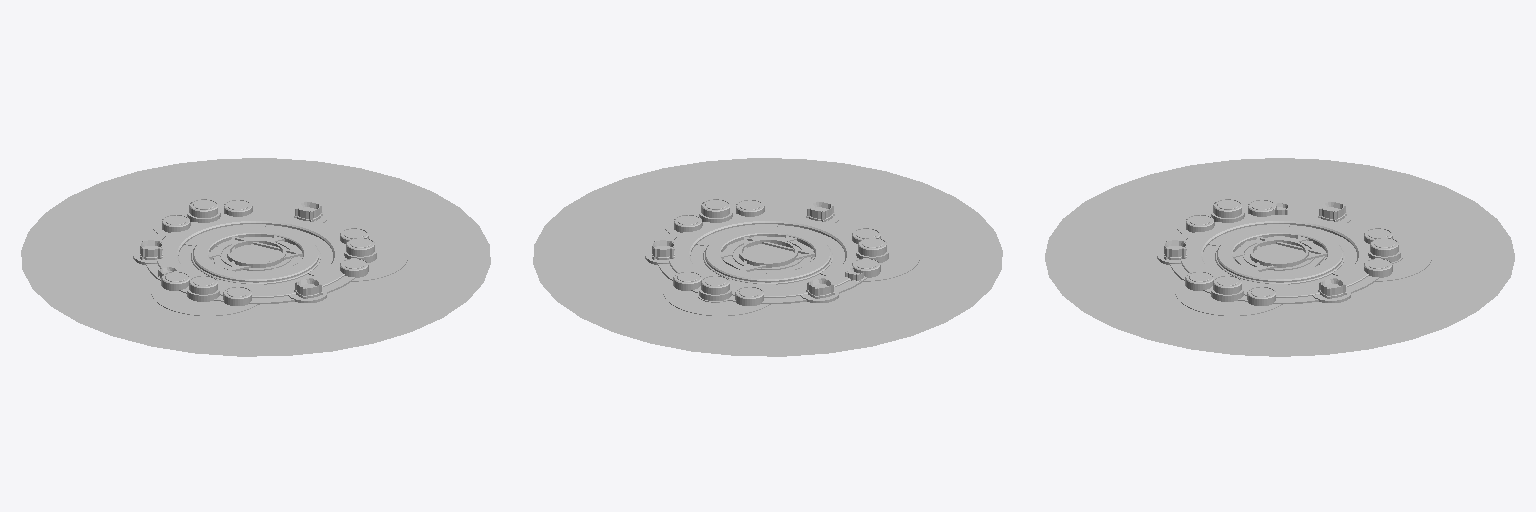
The model's file is arena 2.obj.
3 views of the same model, side by side, from view 1: azimuth 30°, elevation 25°; view 2: azimuth 150°, elevation 25°; view 3: azimuth 270°, elevation 25° (orthographic).
Parts seen in each view (by area): view 1: Circle, Cylinder.006_Cylinder.012, Cylinder.012_Cylinder.023, Cylinder.015_Cylinder.028, Cylinder.007_Cylinder.013, Cube_Cube.005, Cylinder_Cylinder.014, Cylinder.004_Cylinder.009, Cylinder.005_Cylinder.015; view 2: Circle, Cylinder.006_Cylinder.012, Cylinder.012_Cylinder.023, Cylinder.015_Cylinder.028, Cylinder.007_Cylinder.013, Cube_Cube.005, Cylinder_Cylinder.014, Cylinder.004_Cylinder.009, Cylinder.005_Cylinder.015; view 3: Circle, Cylinder.006_Cylinder.012, Cylinder.012_Cylinder.023, Cylinder.015_Cylinder.028, Cylinder.007_Cylinder.013, Cube_Cube.005, Cylinder_Cylinder.014, Cylinder.004_Cylinder.009, Cylinder.005_Cylinder.015.
Part boxes in pixels (x1,y1,x2,y2): Circle: (21, 158, 490, 356); Cylinder.006_Cylinder.012: (146, 209, 354, 304); Cylinder.012_Cylinder.023: (161, 199, 376, 305); Cylinder.015_Cylinder.028: (151, 198, 407, 315); Cylinder.007_Cylinder.013: (191, 227, 320, 284); Cube_Cube.005: (133, 201, 326, 302); Cylinder_Cylinder.014: (232, 236, 302, 271); Cylinder.004_Cylinder.009: (211, 237, 300, 273); Cylinder.005_Cylinder.015: (227, 239, 285, 267); Circle: (533, 158, 1002, 356); Cylinder.006_Cylinder.012: (658, 209, 866, 304); Cylinder.012_Cylinder.023: (673, 199, 888, 305); Cylinder.015_Cylinder.028: (663, 198, 919, 315); Cylinder.007_Cylinder.013: (703, 227, 832, 284); Cube_Cube.005: (645, 201, 838, 302); Cylinder_Cylinder.014: (744, 236, 814, 271); Cylinder.004_Cylinder.009: (723, 236, 813, 273); Cylinder.005_Cylinder.015: (739, 239, 797, 267); Circle: (1045, 158, 1514, 356); Cylinder.006_Cylinder.012: (1170, 209, 1378, 304); Cylinder.012_Cylinder.023: (1185, 199, 1400, 305); Cylinder.015_Cylinder.028: (1175, 198, 1431, 315); Cylinder.007_Cylinder.013: (1215, 227, 1344, 284); Cube_Cube.005: (1157, 201, 1350, 302); Cylinder_Cylinder.014: (1257, 236, 1327, 271); Cylinder.004_Cylinder.009: (1235, 236, 1325, 273); Cylinder.005_Cylinder.015: (1250, 239, 1308, 267).
Size of the model in its own units: 63.62 by 3.86 by 63.62.